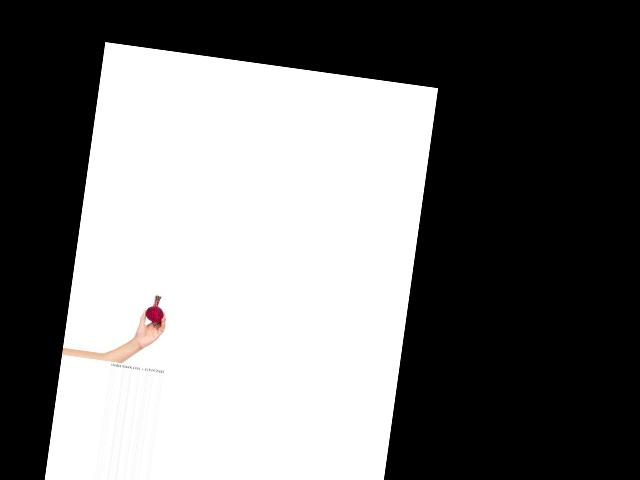beet: (145, 294, 166, 323)
